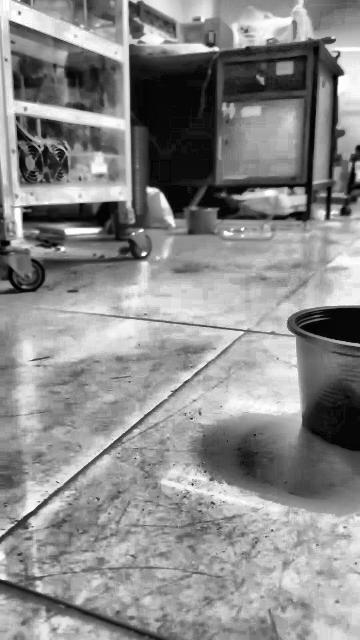pot: (288, 306, 360, 451)
